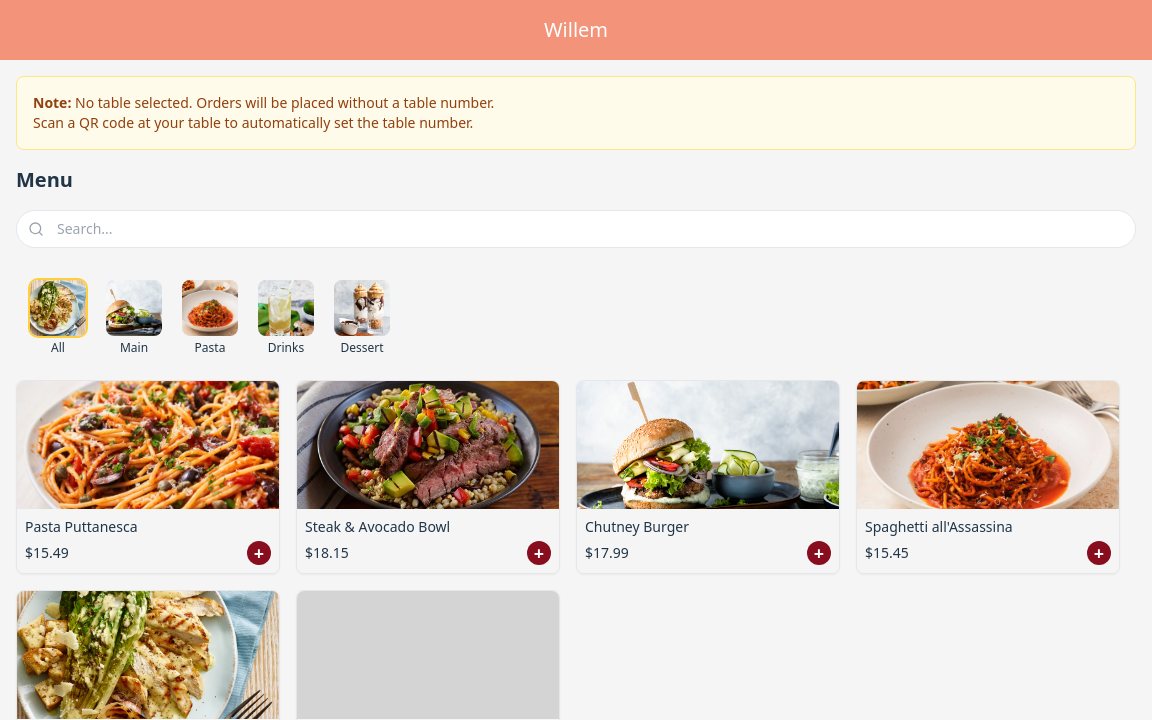
it: Shopping Cart › navigates to cart page and shows added items
Add an item to cart
Click the heading "Pasta Puttanesca": (82, 527) [25,517,138,536]
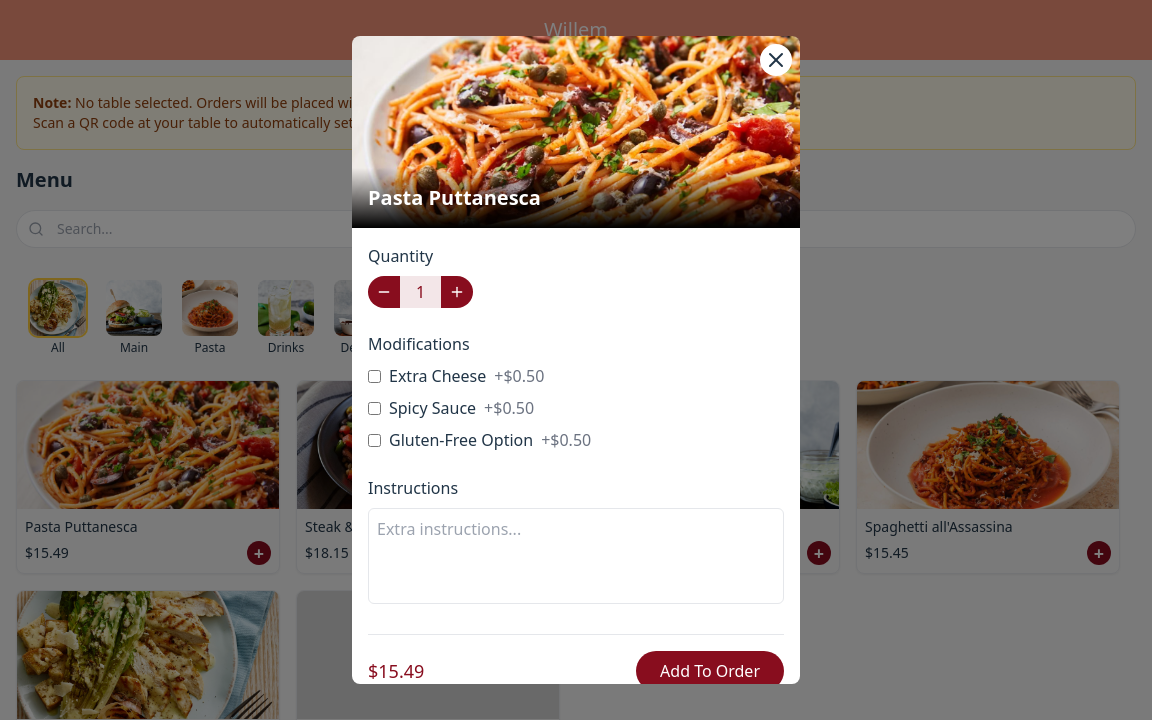
Click the button with test id "add-to-order-button": (710, 671) [636,651,784,691]
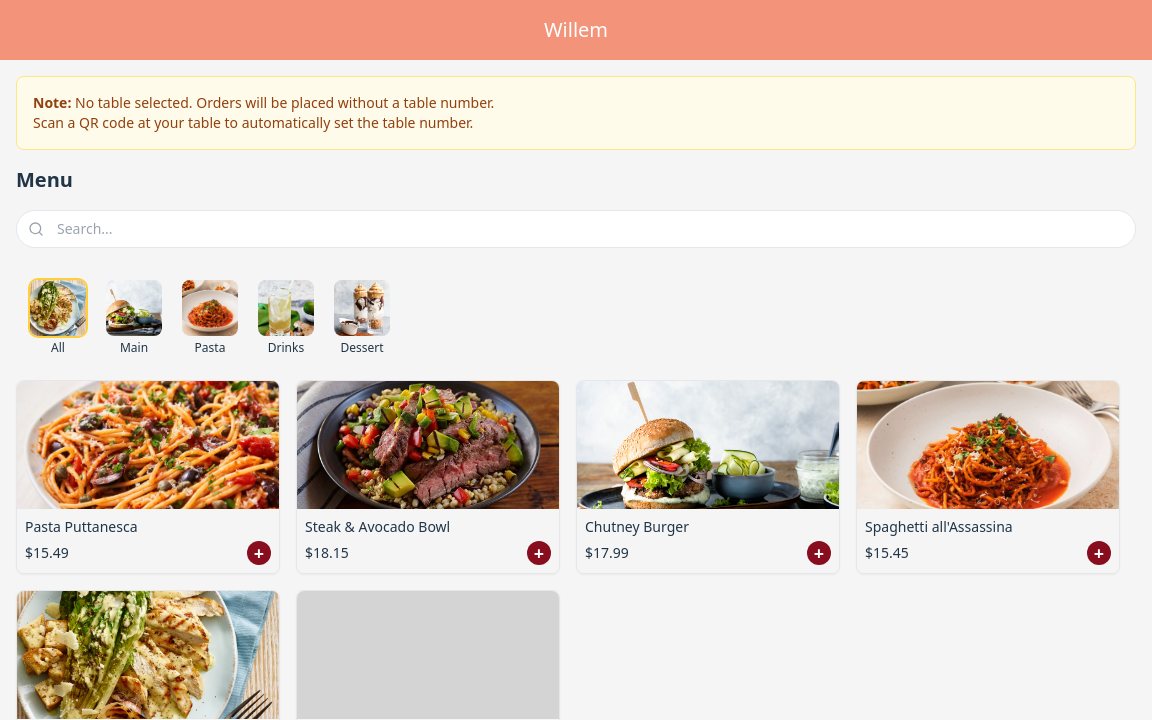
Scroll
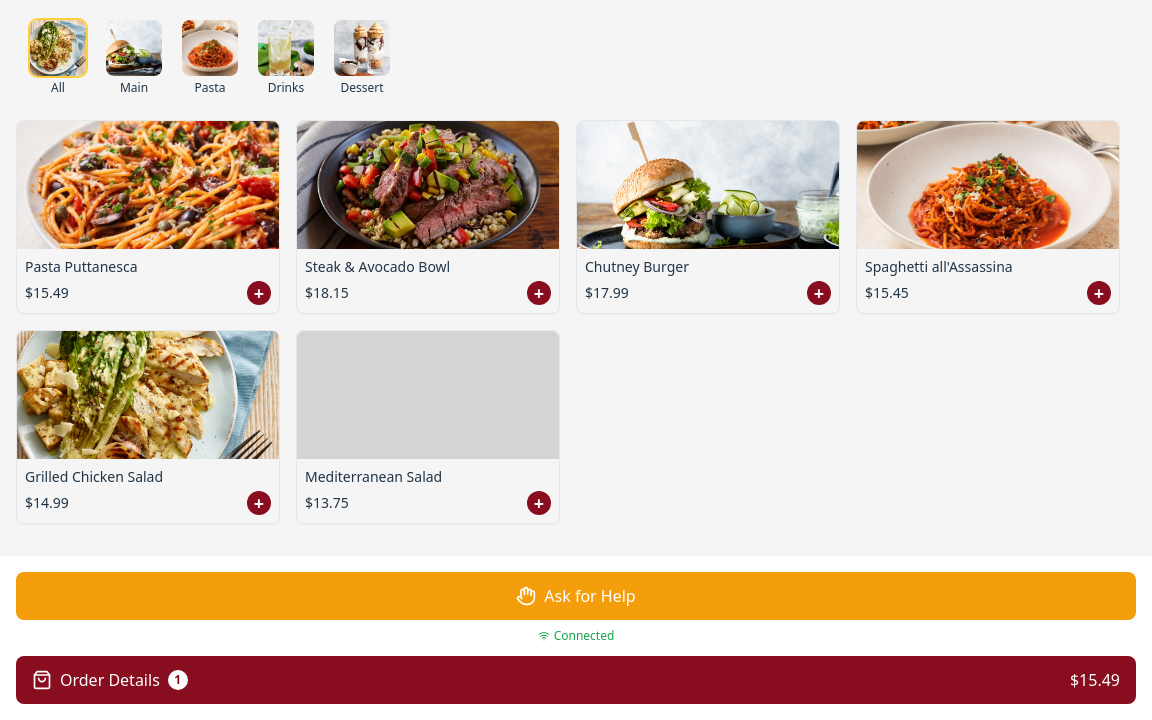
Go to cart page using the cart summary button
Click the button with test id "cart-summary-button": (110, 680) [16,656,1136,704]
(page scrolled)
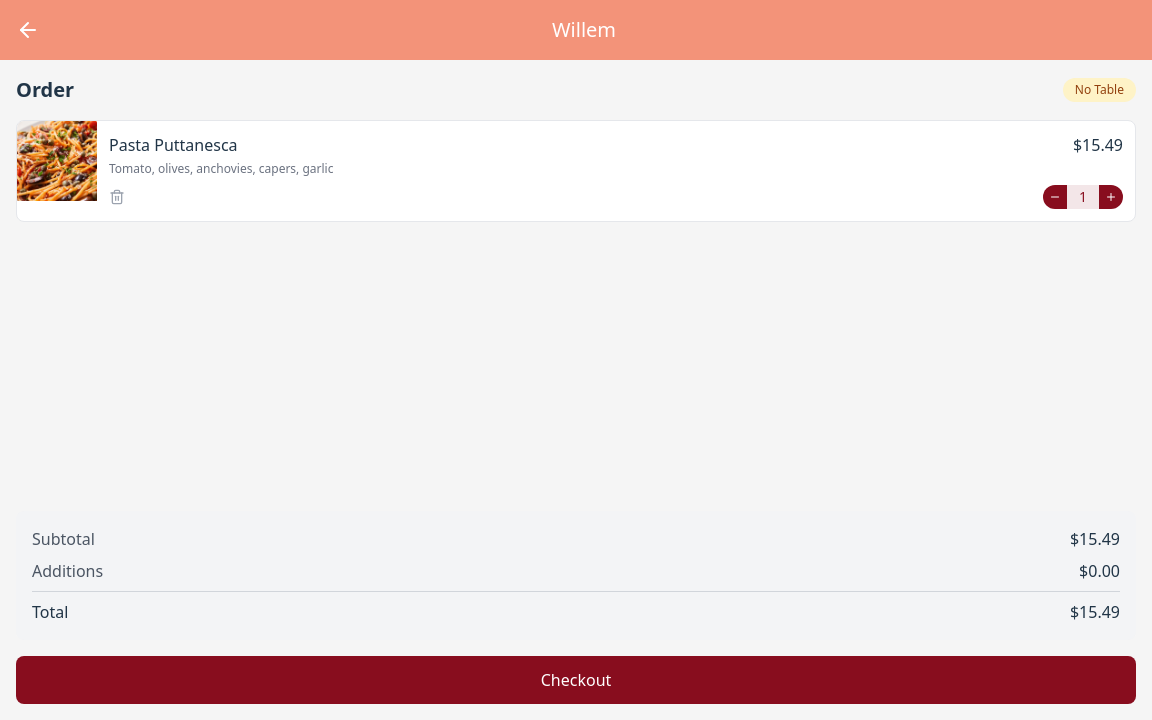
expect the heading "Pasta Puttanesca" is shown: met, box [109,133,238,157]
expect the text "$15.49" in the row of "Pasta Puttanesca" is shown: met, box [1073,133,1123,157]
